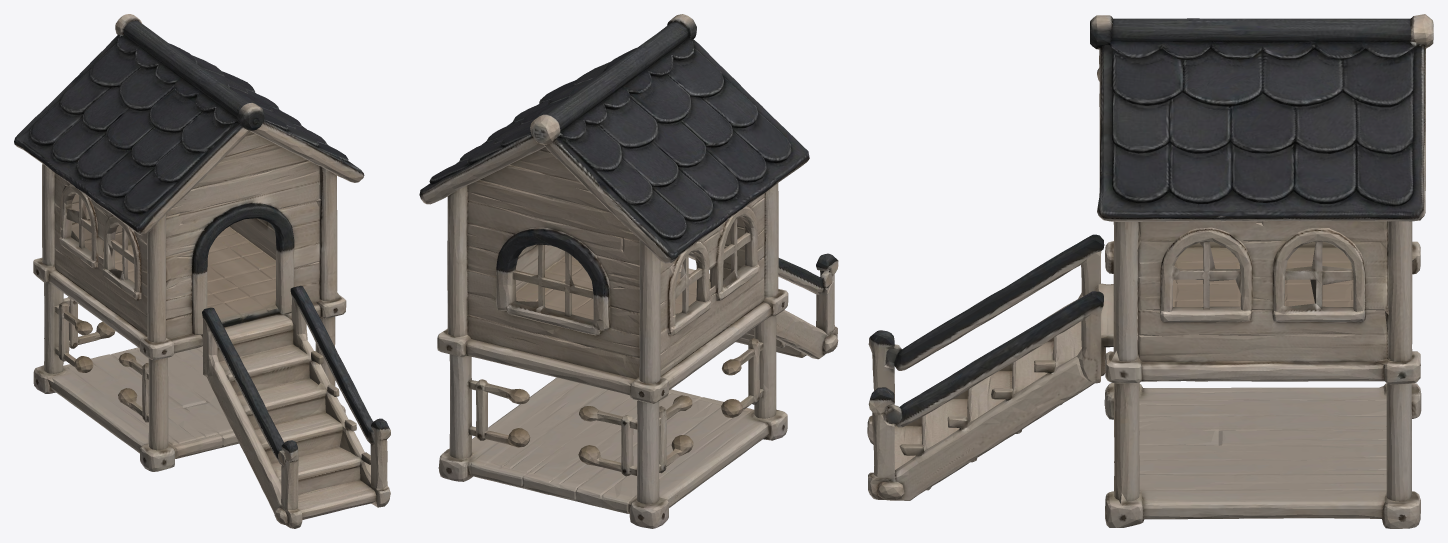
File: DOM_budka_2__white.glb
3 views of the same model, side by side, from view 1: azimuth 30°, elevation 25°; view 2: azimuth 150°, elevation 25°; view 3: azimuth 270°, elevation 25° (orthographic). The views are drawn at different scales.
Visible parts, largest first — view 1: tripo_node_ac6729f5-73c2-4e4e-95e1-3ff5b1cdb705; view 2: tripo_node_ac6729f5-73c2-4e4e-95e1-3ff5b1cdb705; view 3: tripo_node_ac6729f5-73c2-4e4e-95e1-3ff5b1cdb705.
Part boxes in pixels (x1=…): tripo_node_ac6729f5-73c2-4e4e-95e1-3ff5b1cdb705: x1=14, y1=14, x2=390, y2=528; tripo_node_ac6729f5-73c2-4e4e-95e1-3ff5b1cdb705: x1=419, y1=14, x2=838, y2=528; tripo_node_ac6729f5-73c2-4e4e-95e1-3ff5b1cdb705: x1=867, y1=14, x2=1433, y2=528.
Bounding box in the file's own units: 2.76 × 4 × 4.52.
1 material, 1 textured.
